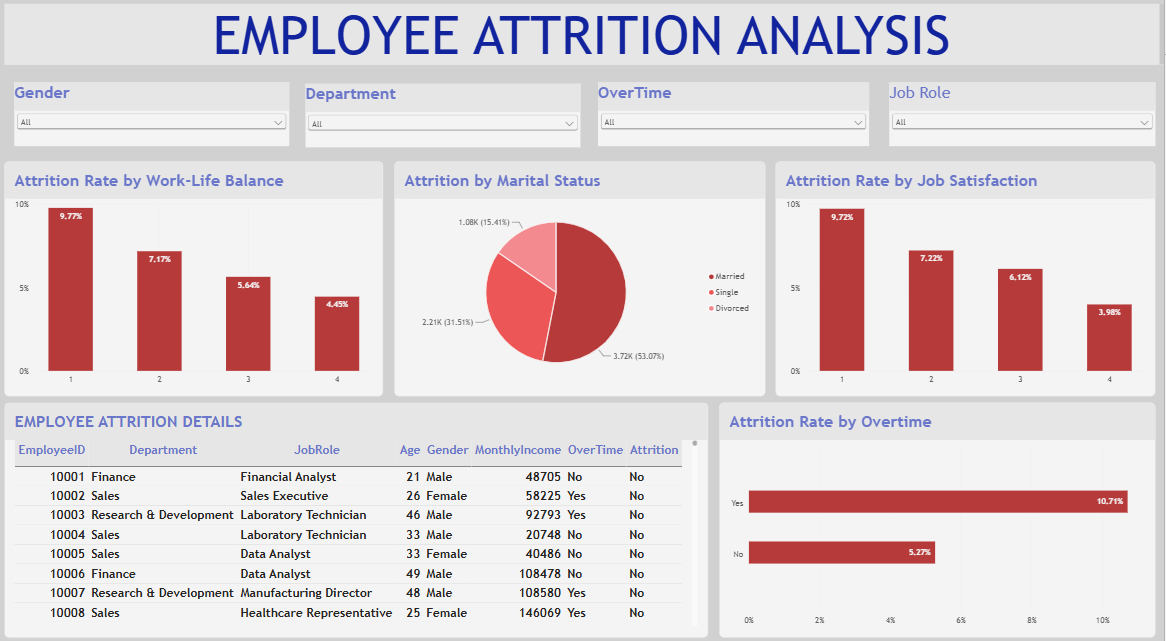

This screenshot's page, from the dashboard's own definition file:
{"tool":"powerbi","page":{"name":"Attrition Analysis","canvas":[1920,1080],"ordinal":1},"visuals":[{"type":"textbox","box":[10.3,14.4,1910.1,100.9],"z":0},{"type":"slicer","title":"Gender","fields":{"Values":["HR_Analytics_Cleaned.Gender"]},"box":[26.8,144.1,452.8,105],"z":1},{"type":"slicer","title":"Department","fields":{"Values":["HR_Analytics_Cleaned.Department"]},"box":[506.3,146.1,452.8,105],"z":2},{"type":"slicer","title":"Job Role","fields":{"Values":["HR_Analytics_Cleaned.JobRole"]},"box":[1467.6,144.1,438.4,105],"z":4},{"type":"slicer","title":"OverTime","fields":{"Values":["HR_Analytics_Cleaned.OverTime"]},"box":[988,144.1,446.7,105],"z":5},{"type":"clusteredBarChart","title":"Attrition Rate by Overtime","fields":{"Category":["HR_Analytics_Cleaned.OverTime"],"Y":["HR_Analytics_Cleaned.Attrition Rate"]},"box":[1187.7,671,718.4,387],"z":6},{"type":"columnChart","title":"Attrition Rate by Job Satisfaction","fields":{"Category":["HR_Analytics_Cleaned.JobSatisfaction"],"Y":["HR_Analytics_Cleaned.Attrition Rate"]},"box":[1280.3,273.8,625.7,387],"z":7},{"type":"clusteredColumnChart","title":"Attrition Rate by Work-Life Balance","fields":{"Category":["HR_Analytics_Cleaned.WorkLifeBalance"],"Y":["HR_Analytics_Cleaned.Attrition Rate"]},"box":[10.3,273.8,623.7,387],"z":8},{"type":"tableEx","title":"EMPLOYEE ATTRITION DETAILS","fields":{"Values":["HR_Analytics_Cleaned.EmployeeID","HR_Analytics_Cleaned.Department","HR_Analytics_Cleaned.JobRole","HR_Analytics_Cleaned.Age","HR_Analytics_Cleaned.Gender","HR_Analytics_Cleaned.MonthlyIncome","HR_Analytics_Cleaned.OverTime","HR_Analytics_Cleaned.Attrition"]},"box":[10.3,671,1158.8,387],"z":9},{"type":"pieChart","title":"Attrition by Marital Status","fields":{"Category":["HR_Analytics_Cleaned.MaritalStatus"],"Y":["CountNonNull(HR_Analytics_Cleaned.EmployeeID)"]},"box":[652.5,273.8,611.3,387],"z":10}]}

Visuals, with their boxes in screenshot pixels (x1, y1, x2, y2), scaled from the page's 1920x1080 canvas onto the 1166x641 screenshot:
textbox: (left=6, top=9, right=1165, bottom=68)
"Gender" slicer: (left=16, top=86, right=291, bottom=148)
"Department" slicer: (left=307, top=87, right=582, bottom=149)
"Job Role" slicer: (left=891, top=86, right=1157, bottom=148)
"OverTime" slicer: (left=600, top=86, right=871, bottom=148)
"Attrition Rate by Overtime" clusteredBarChart: (left=721, top=398, right=1158, bottom=628)
"Attrition Rate by Job Satisfaction" columnChart: (left=778, top=163, right=1157, bottom=392)
"Attrition Rate by Work-Life Balance" clusteredColumnChart: (left=6, top=163, right=385, bottom=392)
"EMPLOYEE ATTRITION DETAILS" tableEx: (left=6, top=398, right=710, bottom=628)
"Attrition by Marital Status" pieChart: (left=396, top=163, right=767, bottom=392)
